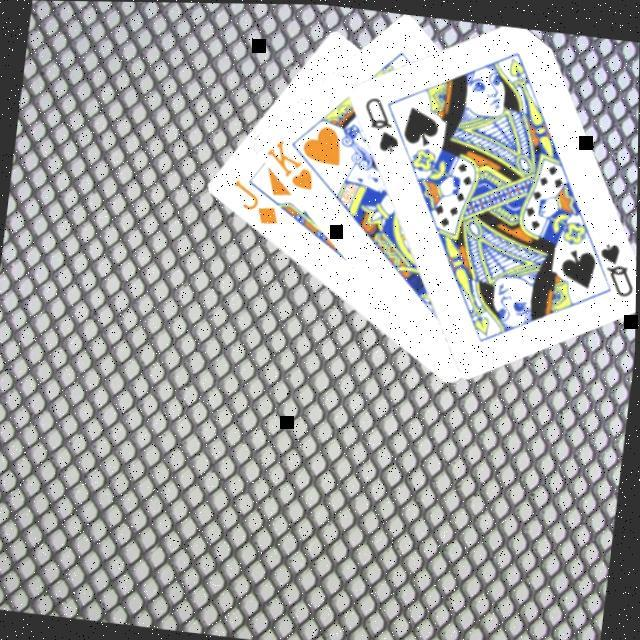JD: (226, 172, 286, 227)
KH: (260, 131, 322, 192)
QS: (357, 88, 408, 154), (594, 234, 638, 296)
